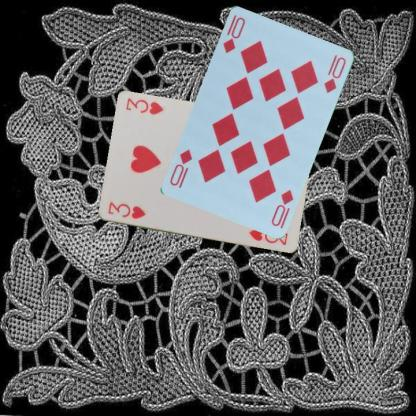10d: (268, 186, 295, 230), (220, 12, 247, 54)
3h: (105, 199, 147, 221)
